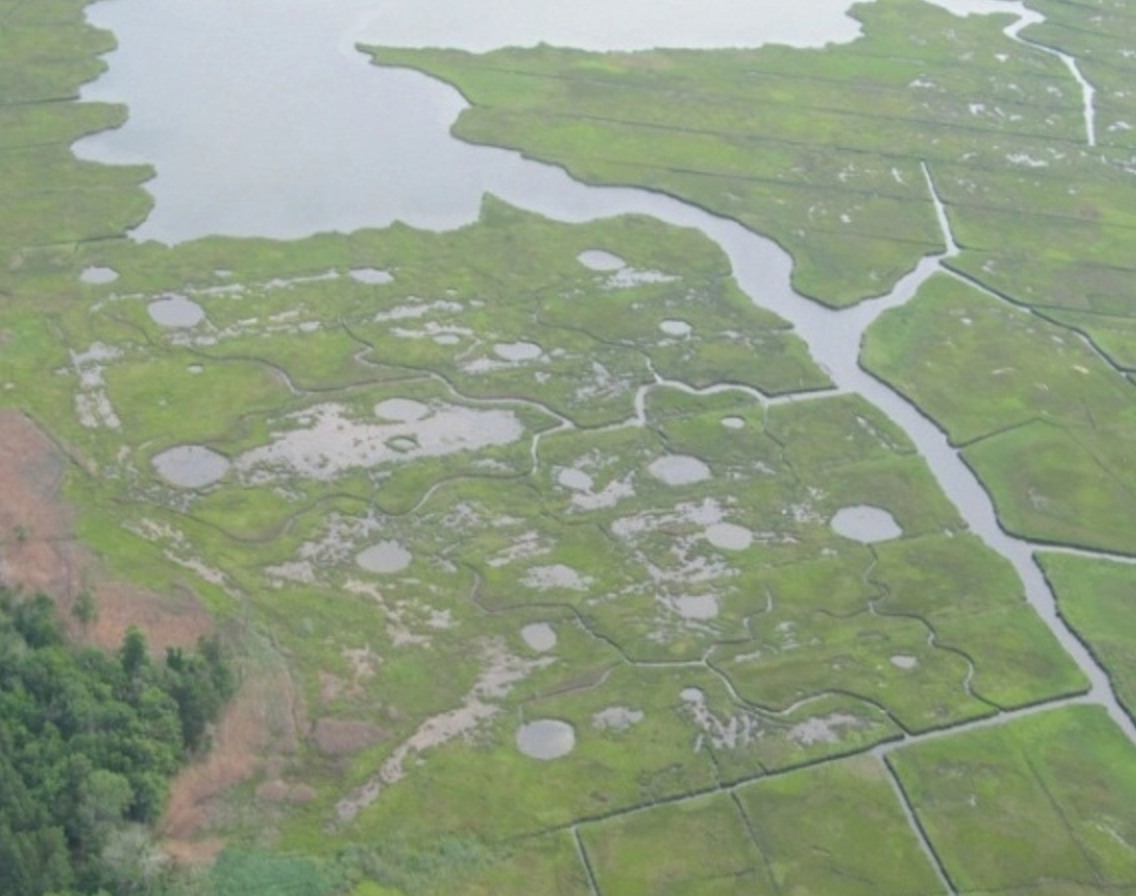water: (50, 1, 522, 253), (361, 1, 861, 58), (514, 149, 771, 245), (250, 396, 523, 463), (798, 287, 876, 391), (725, 228, 818, 310), (151, 441, 239, 493), (131, 285, 219, 337), (347, 534, 418, 580), (647, 446, 718, 492), (827, 499, 898, 545), (511, 714, 582, 760), (373, 395, 438, 428), (515, 618, 561, 656), (710, 517, 756, 555), (656, 307, 702, 345), (577, 237, 623, 275), (490, 343, 547, 366), (348, 266, 400, 289), (77, 267, 121, 287)
